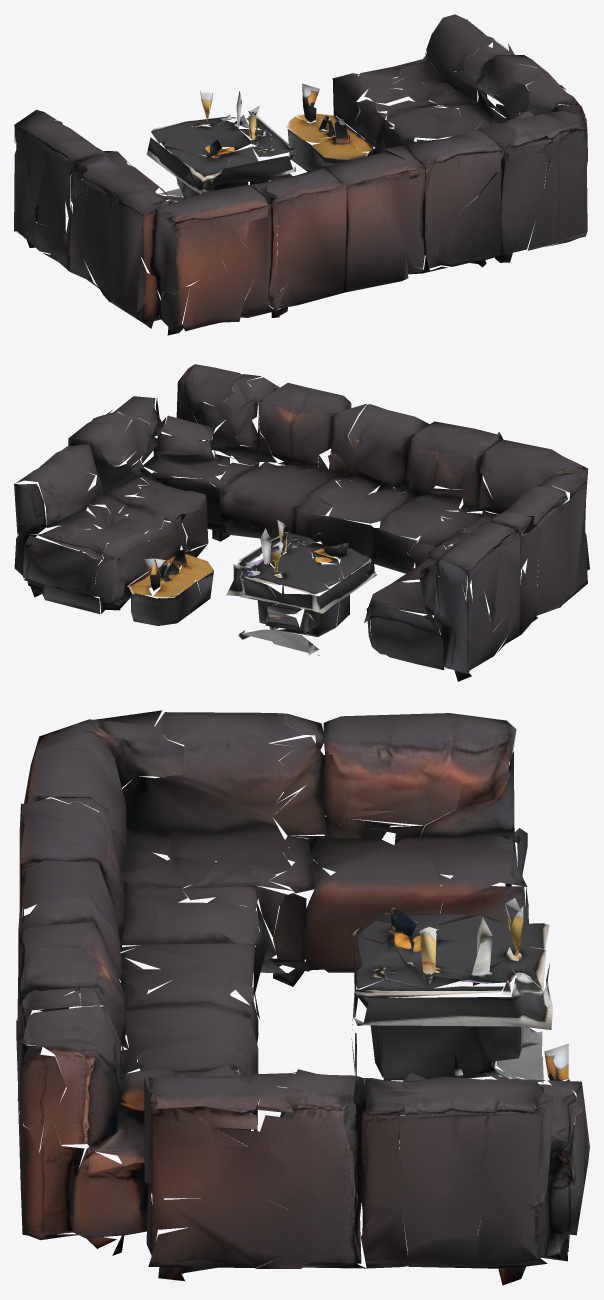
Rendered from karaoke_sofa.glb.
The picture shows the model from 3 angles, top to bottom: view 1: azimuth 30°, elevation 25°; view 2: azimuth 150°, elevation 25°; view 3: azimuth 270°, elevation 25°; orthographic projection. The views are drawn at different scales.
Visible parts, largest first — view 1: tripo_node_c8813859-33fb-4738-99d2-f34ea20e5cbf; view 2: tripo_node_c8813859-33fb-4738-99d2-f34ea20e5cbf; view 3: tripo_node_c8813859-33fb-4738-99d2-f34ea20e5cbf.
Boxes of the visible parts, x1,y1,x2,y2 form: tripo_node_c8813859-33fb-4738-99d2-f34ea20e5cbf: (14,14,587,335); tripo_node_c8813859-33fb-4738-99d2-f34ea20e5cbf: (14,364,589,681); tripo_node_c8813859-33fb-4738-99d2-f34ea20e5cbf: (16,710,589,1285).
Size of the model in its own units: 3.2 by 0.8452 by 2.04.
Materials: 1 (1 with a texture image).
